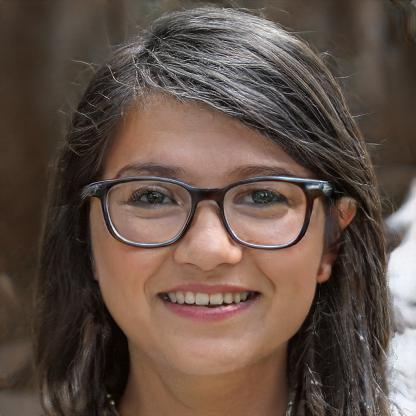glasses: (87, 172, 331, 254)
